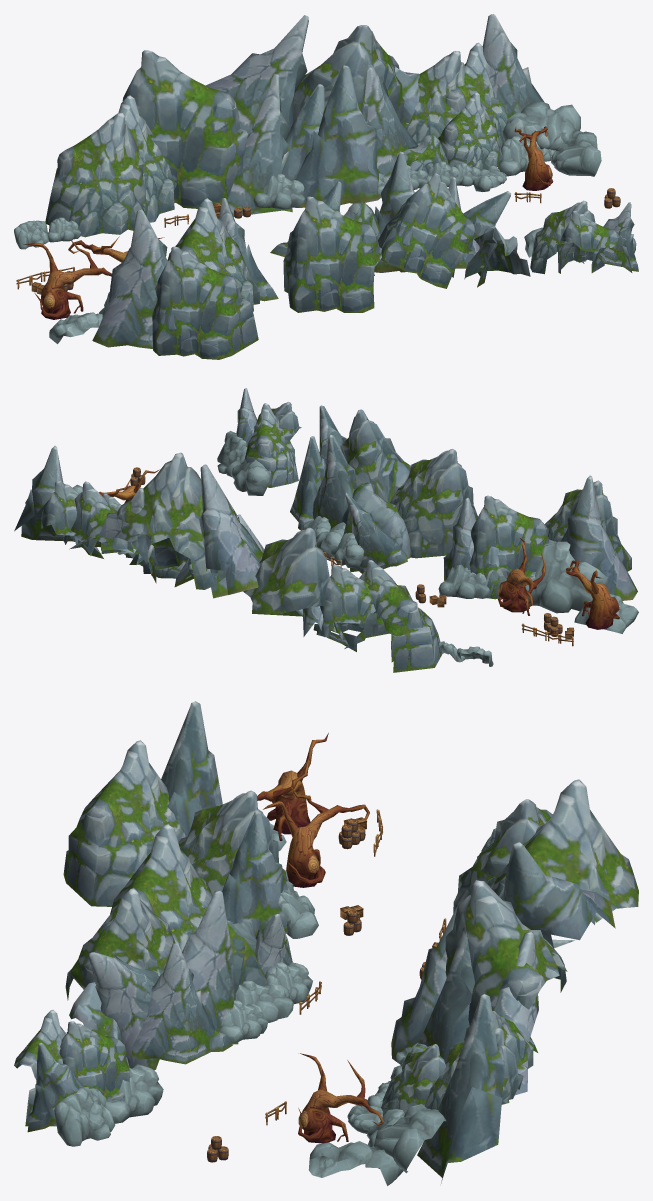
File: yanshi25_1.FBX
3 views of the same model, one above another, from view 1: azimuth 30°, elevation 25°; view 2: azimuth 150°, elevation 25°; view 3: azimuth 270°, elevation 25° (orthographic). The views are drawn at different scales.
Parts seen in each view (by area): view 1: yanshi25_1; view 2: yanshi25_1; view 3: yanshi25_1.
Part boxes in pixels (x1,y1,x2,y2): yanshi25_1: [14, 14, 638, 359]; yanshi25_1: [14, 388, 638, 672]; yanshi25_1: [14, 701, 638, 1185].
Size of the model in its own units: 6899 by 1914 by 4880.
